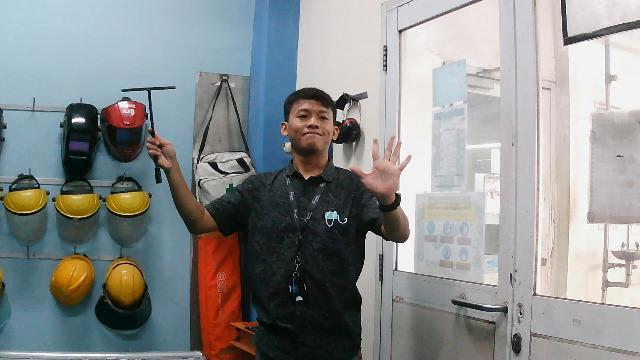kunci_t: (119, 83, 180, 185)
